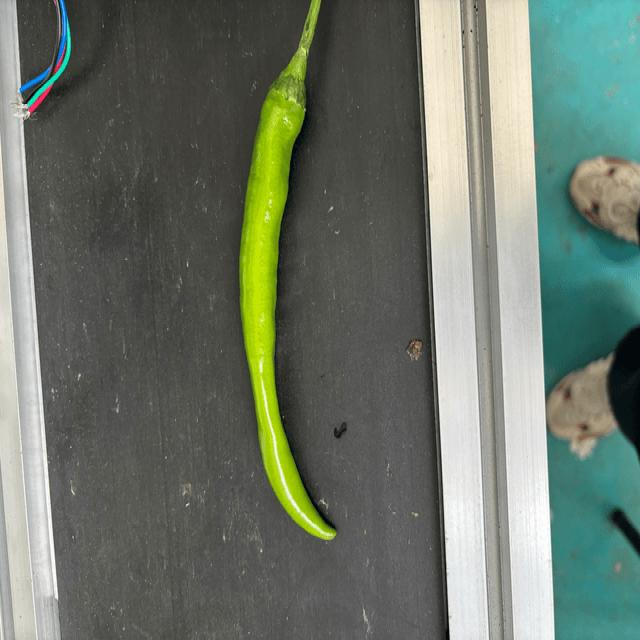chili: (237, 68, 338, 541)
